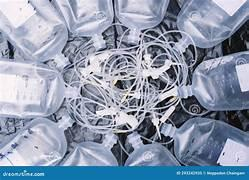Iv_Bottle: (161, 51, 248, 110), (0, 0, 67, 64), (161, 118, 248, 165), (0, 58, 66, 117), (0, 116, 72, 165), (177, 0, 248, 47), (52, 0, 113, 49), (115, 0, 168, 43), (60, 133, 117, 165), (125, 132, 179, 165)
